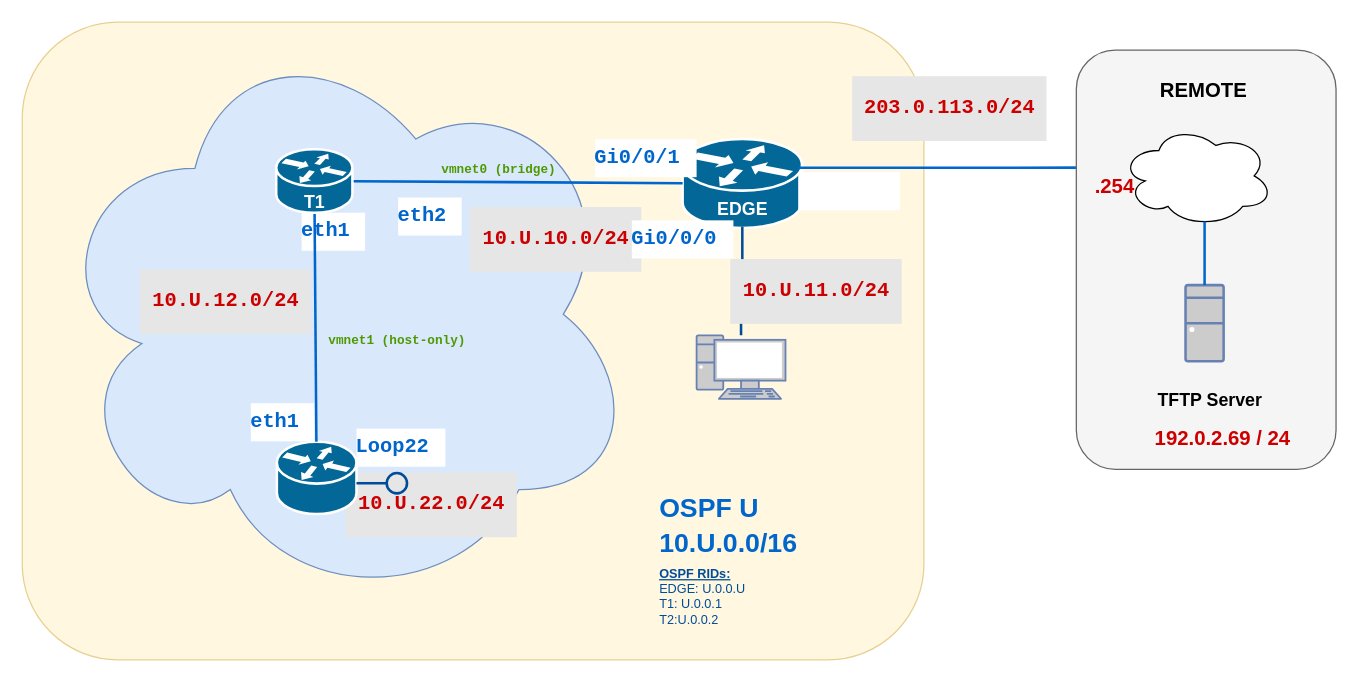
Some shapes in this 1359 by 682 pixel diagram are drawn without their labels. Here are the shapes that lost their labels. From the top down, the centre of each, then its label:
point (848, 190): Gi0/0/2
point (740, 366): PC
point (316, 477): T2
